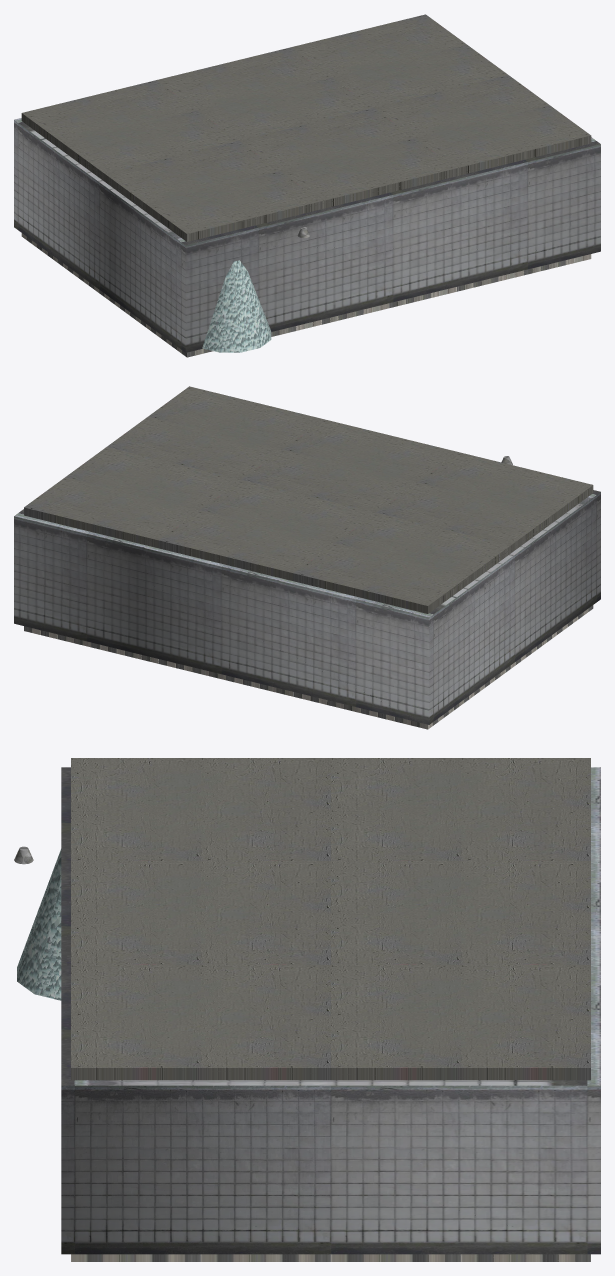
The model's file is Bathroom.glb.
3 views of the same model, one above another, from view 1: azimuth 30°, elevation 25°; view 2: azimuth 150°, elevation 25°; view 3: azimuth 270°, elevation 25° (orthographic). The views are drawn at different scales.
Parts seen in each view (by area): view 1: Bathroom; view 2: Bathroom; view 3: Bathroom.
Part boxes in pixels (x1=…): Bathroom: x1=14, y1=14, x2=600, y2=357; Bathroom: x1=14, y1=386, x2=600, y2=729; Bathroom: x1=14, y1=758, x2=600, y2=1261.
Size of the model in its own units: 120 by 34.02 by 93.26.
17 materials, 16 textured.
